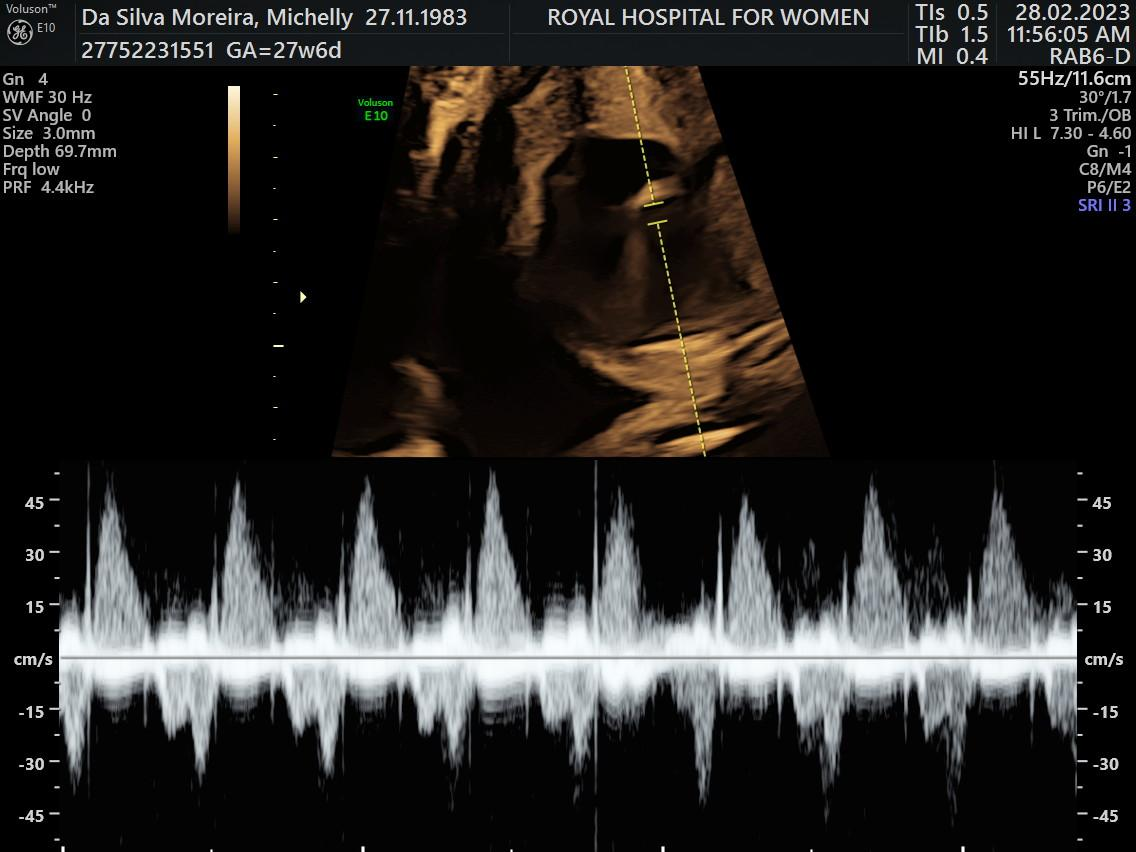Ultrasound-Waves: (62, 456, 1075, 850)
